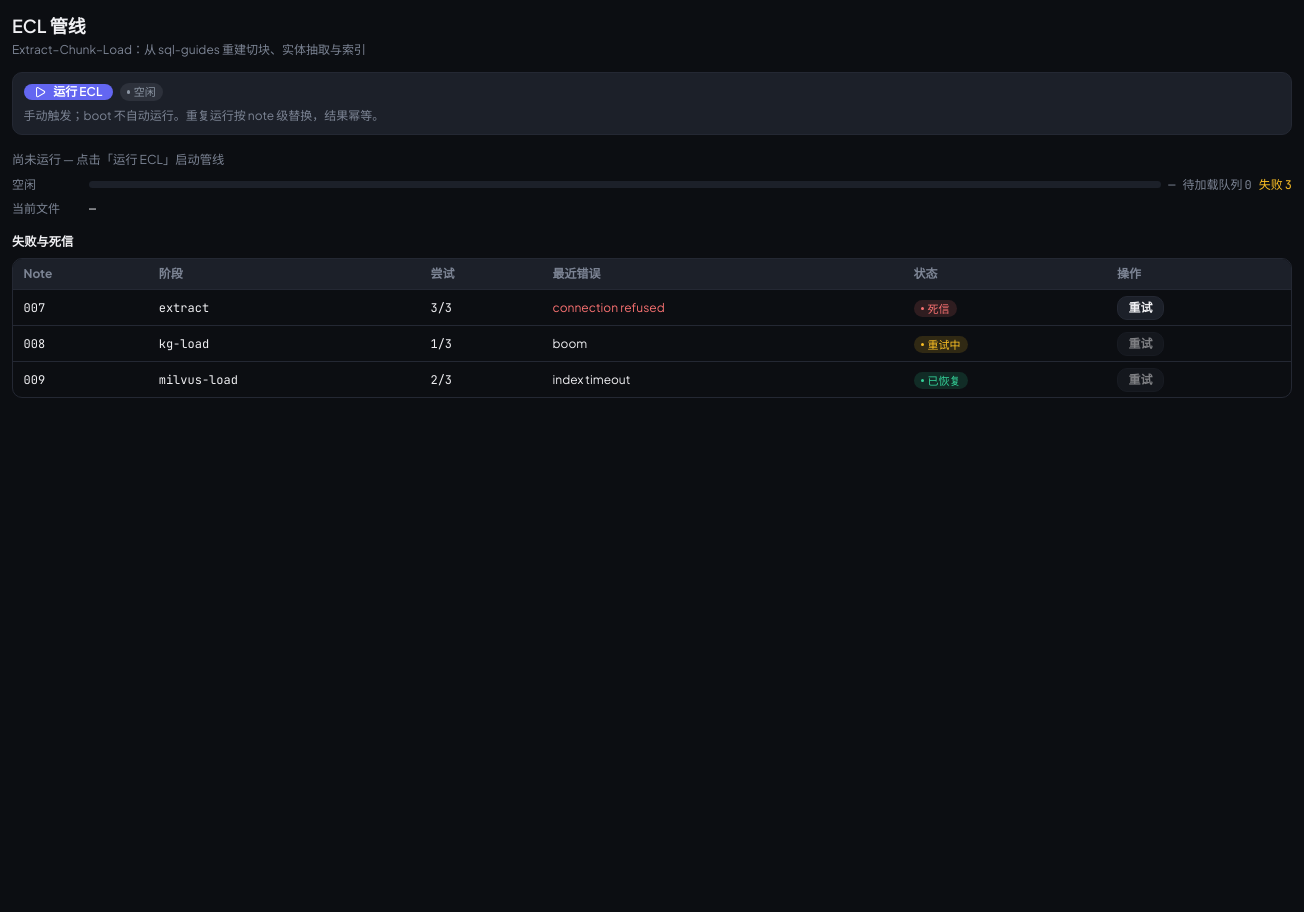
Test case: PipelineTab — Retry lifecycle (SC-5) › enables 重试 ONLY on dead rows; click POSTs retry and toasts queued
Expected: the button with test id "pipeline-retry-008" is disabled, [1117,332,1164,356]
Expected: the button with test id "pipeline-retry-009" is disabled, [1117,368,1164,392]
What coordinates should you click on to do the following:
click the button with test id "pipeline-retry-007"
I would click on:
 (1140, 308)
Its box is [1117,296,1164,320].
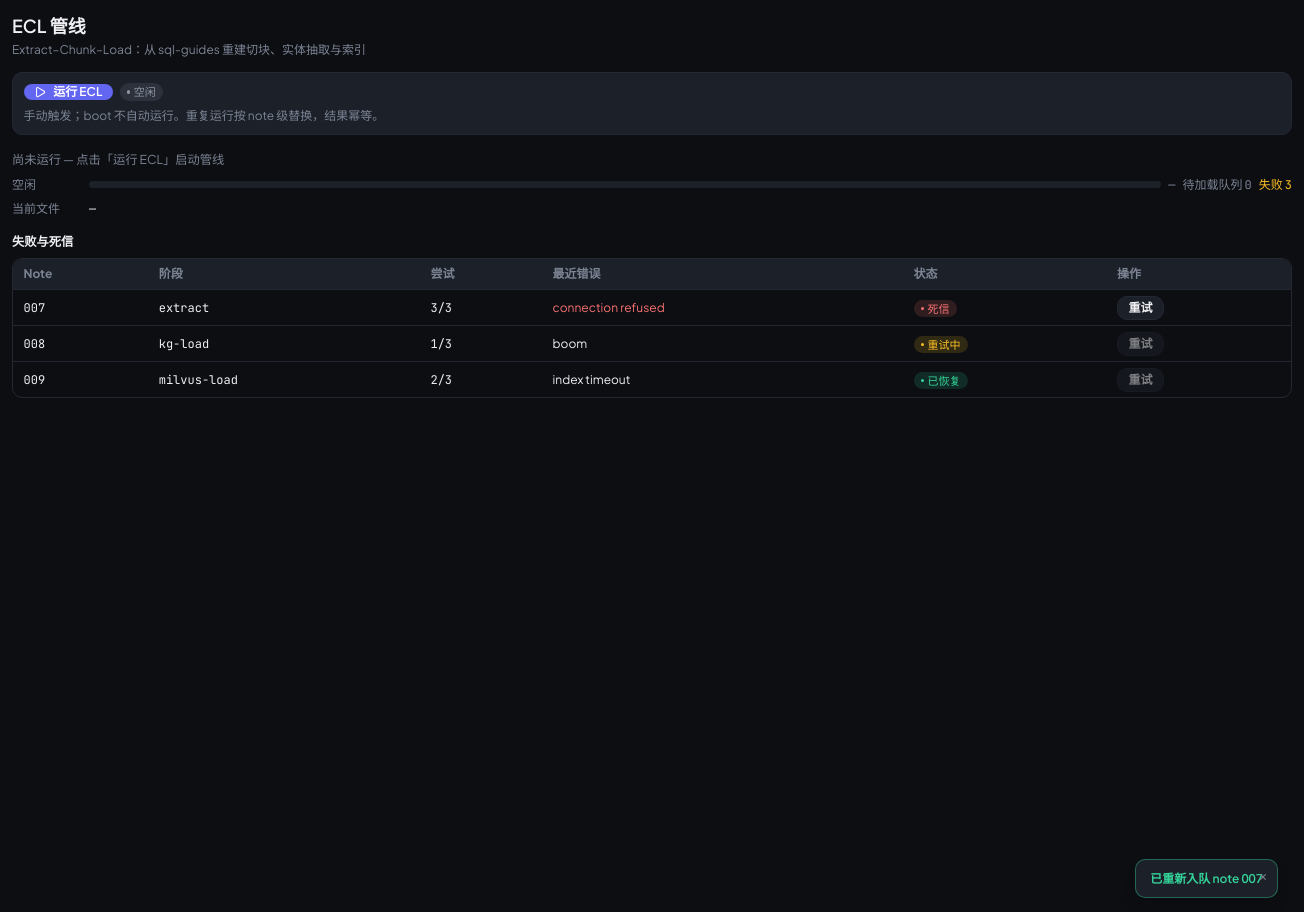
Expected: the message with test id "sf-toast" shows "已重新入队 note 007", [1150,870,1263,886]
